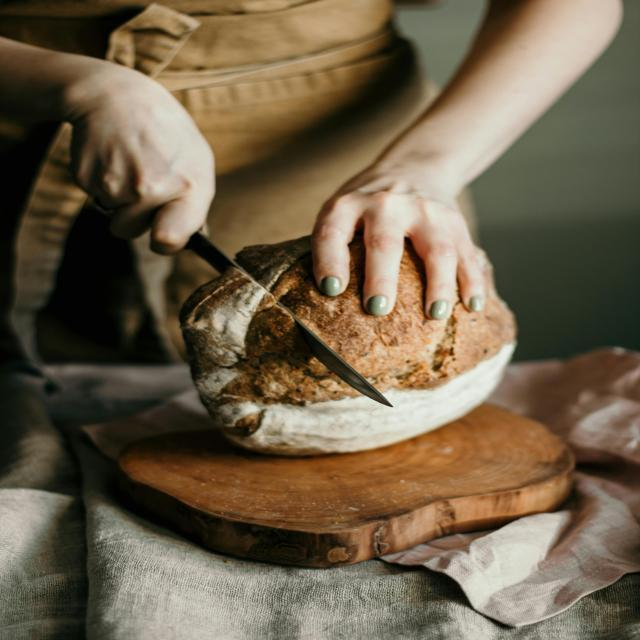knife: (184, 232, 392, 405)
